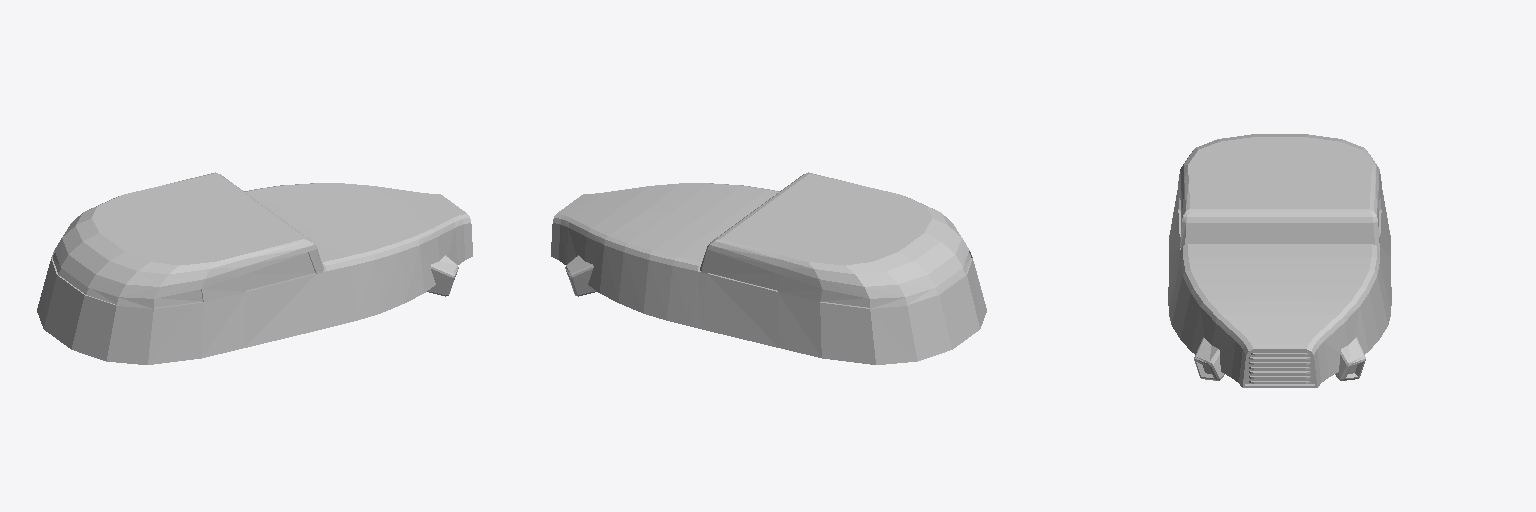
The model's file is pod-2.obj.
The picture shows the model from 3 angles: view 1: azimuth 30°, elevation 25°; view 2: azimuth 150°, elevation 25°; view 3: azimuth 270°, elevation 25°; orthographic projection.
Parts seen in each view (by area): view 1: pod-2; view 2: pod-2; view 3: pod-2.
Boxes of the visible parts, <box> form: pod-2: <box>37,172,472,364</box>; pod-2: <box>551,172,986,364</box>; pod-2: <box>1168,134,1391,387</box>.
Size of the model in its own units: 2.06 by 0.486 by 1.